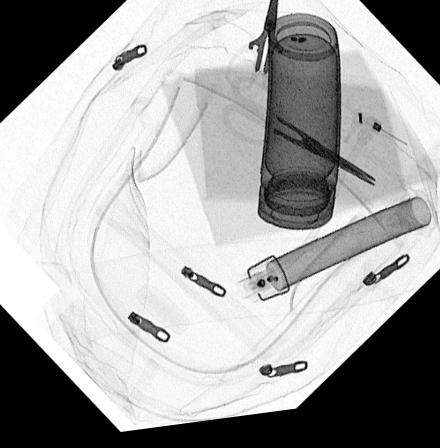Scissors: (218, 75, 378, 200), (222, 0, 299, 107)
